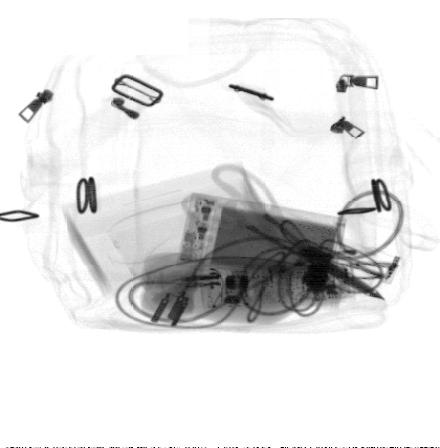Powerbank: (176, 190, 348, 285)
Scissors: (178, 165, 392, 304)
